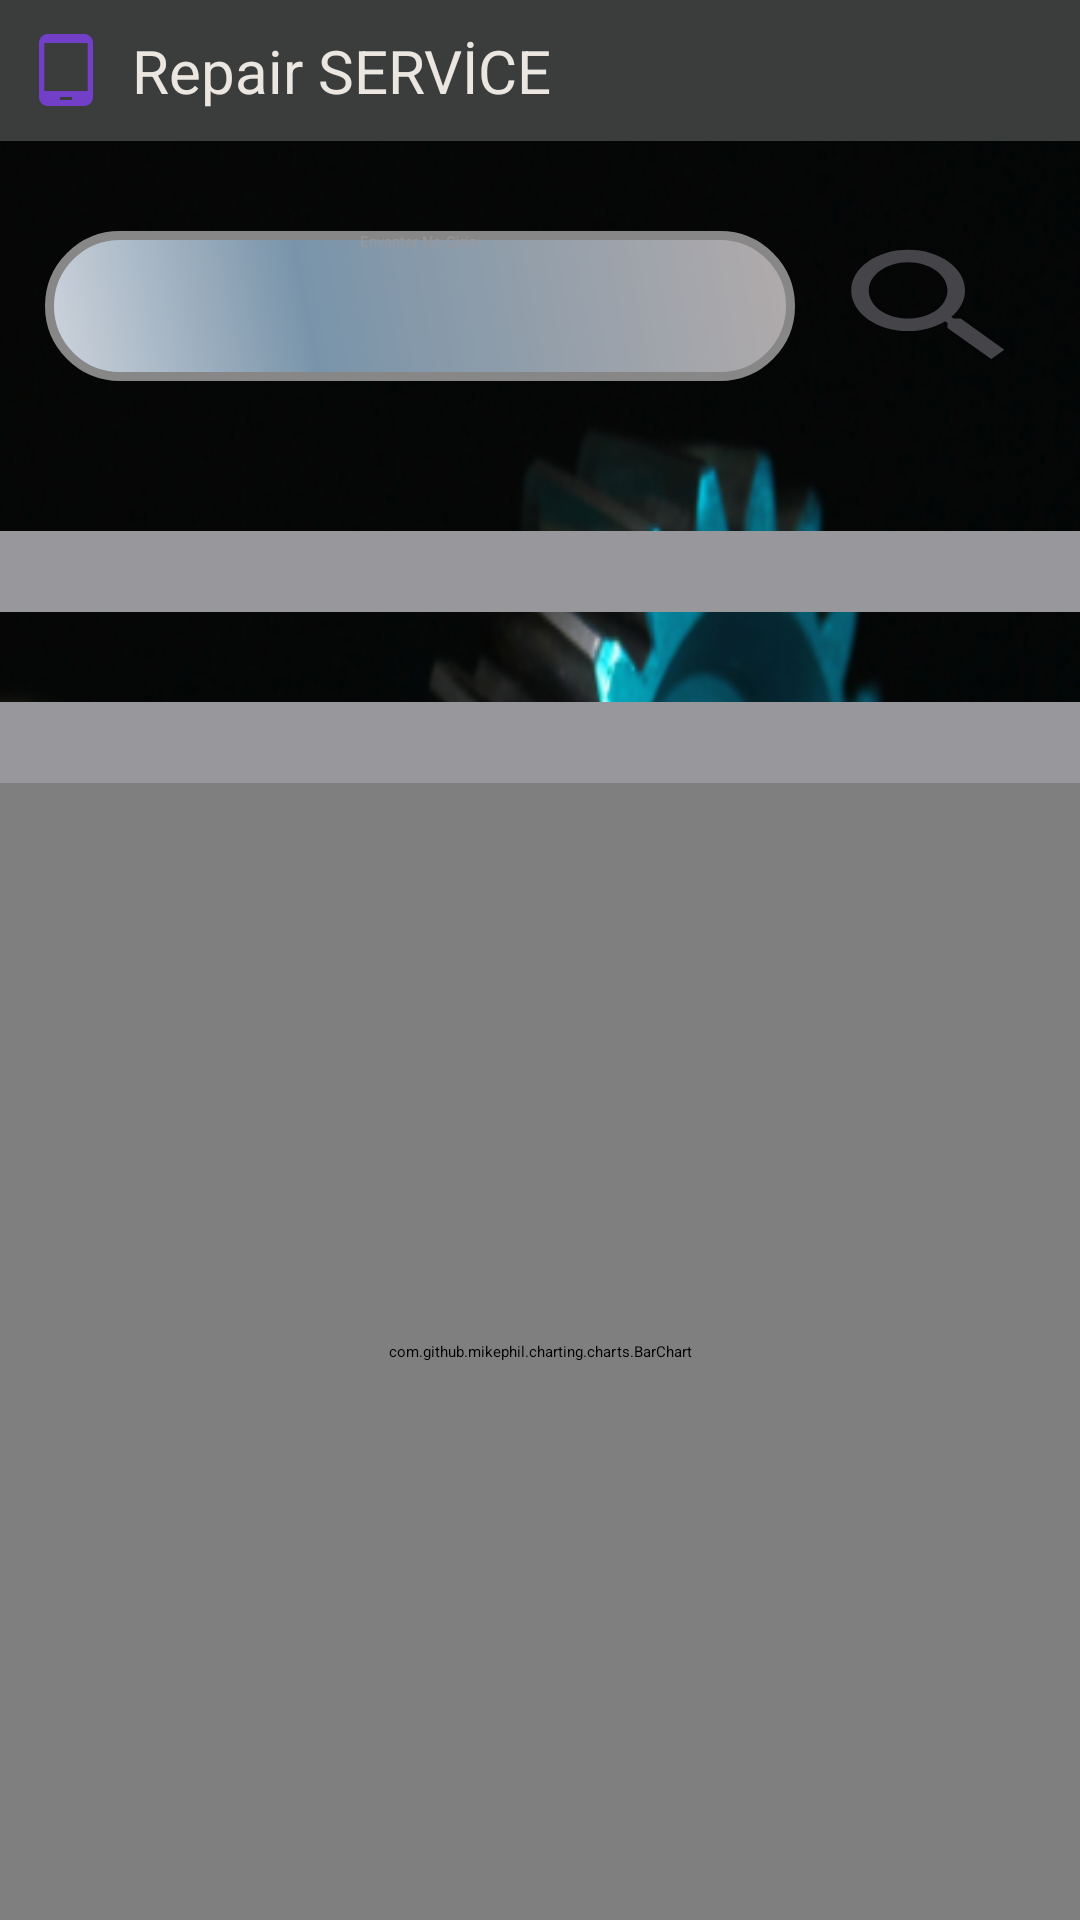

Icon bounding boxes for this 1080x1920 phone screenshot, format (x1, y1, x2, y2):
tablet android: (39, 34, 93, 106)
